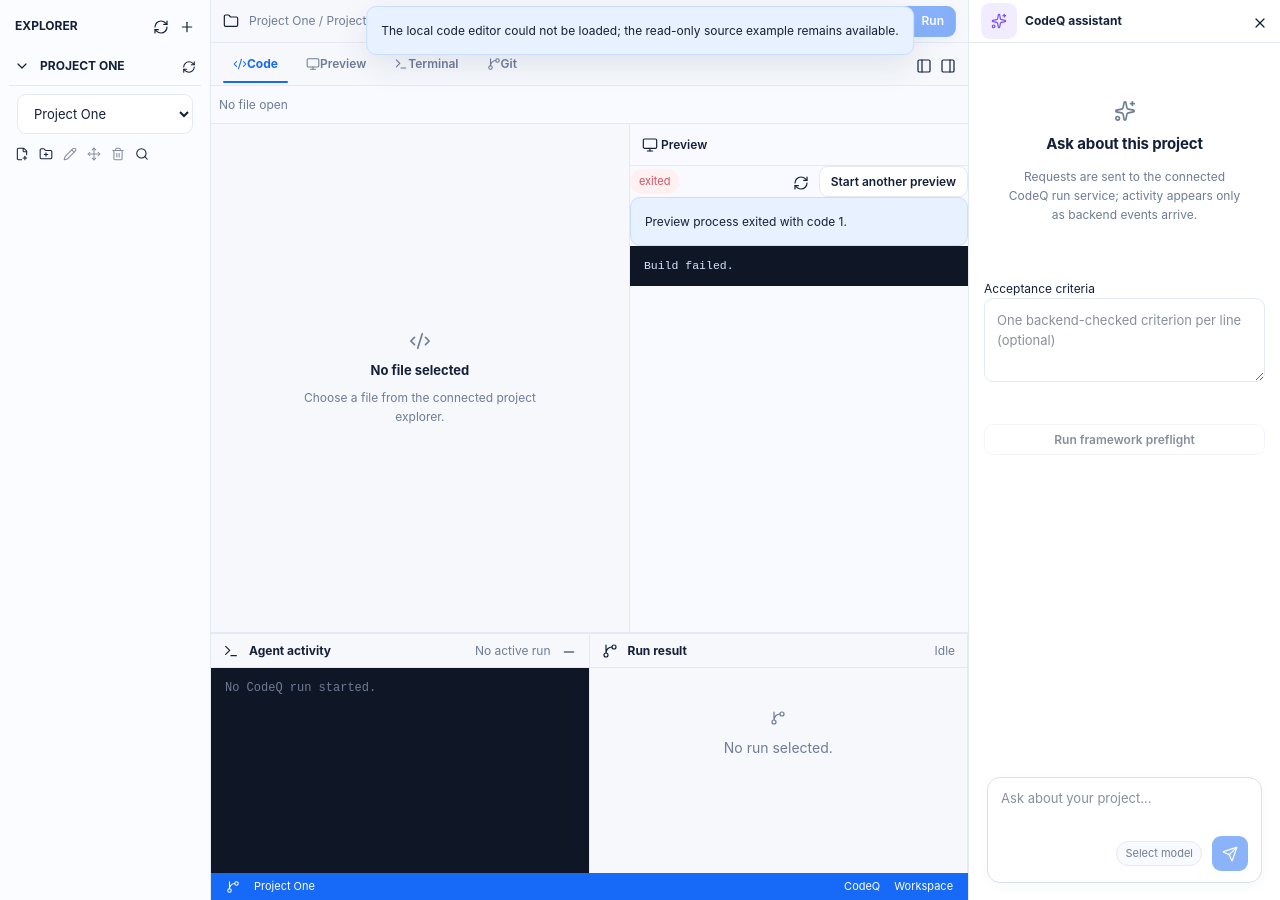
Test: CodeQ preview recovery › releases an exited process pointer and lets the user explicitly start a replacement
Expected: the text "Preview process exited with code 1." is shown, [630, 197, 968, 246]
Click the button "Start another preview".
click(893, 182)  # box [819, 166, 968, 197]
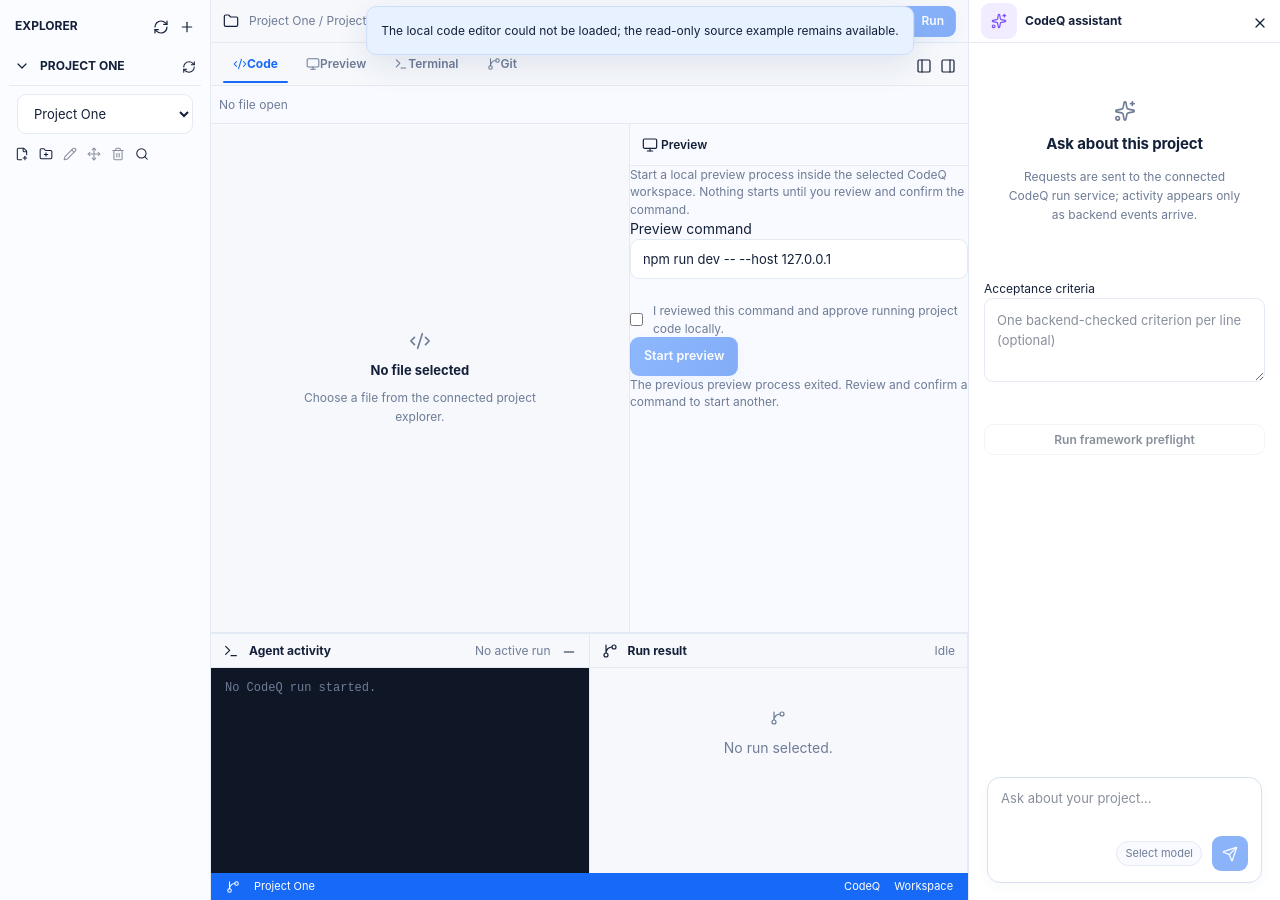
Now the field labelled "Preview command" is shown, box [630, 239, 968, 279]
